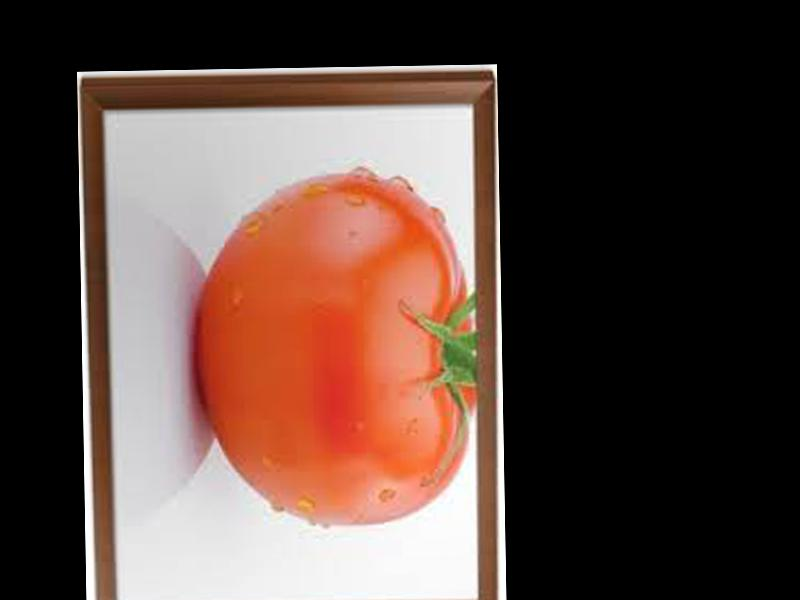Tomato: (192, 170, 481, 527)
